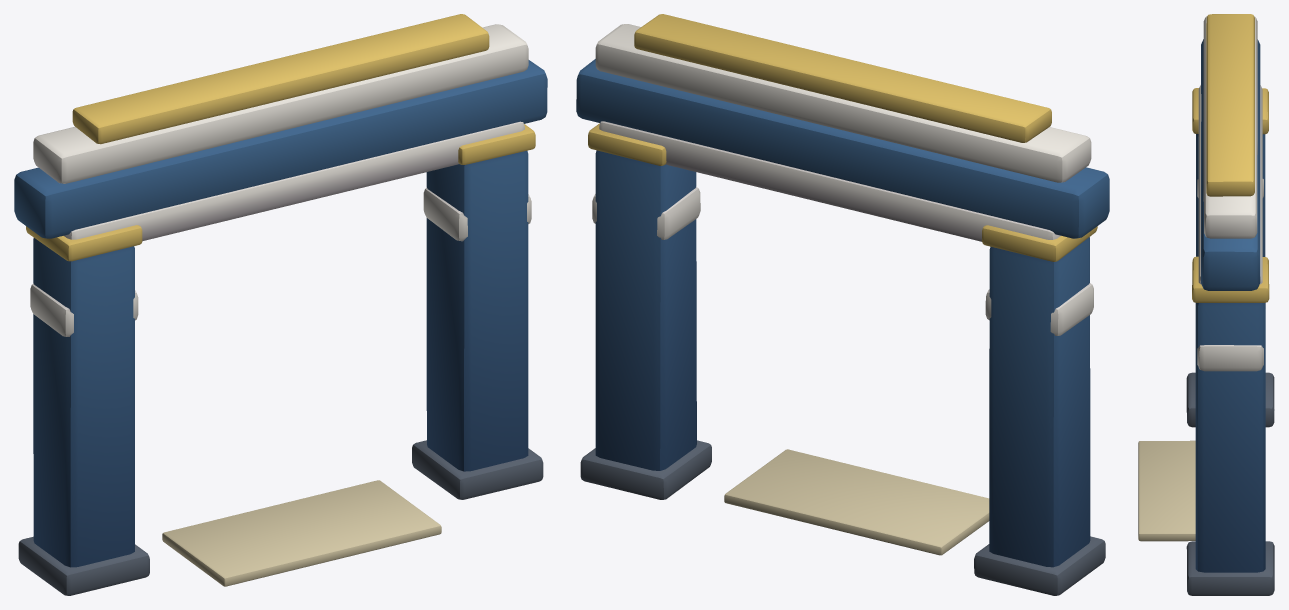
3 views of the same model, side by side, from view 1: azimuth 30°, elevation 25°; view 2: azimuth 150°, elevation 25°; view 3: azimuth 270°, elevation 25° (orthographic). The views are drawn at different scales.
Parts seen in each view (by area): view 1: gate_b9d9fff6; view 2: gate_b9d9fff6; view 3: gate_b9d9fff6.
Boxes of the visible parts, x1=… form: gate_b9d9fff6: x1=14, y1=14, x2=547, y2=595; gate_b9d9fff6: x1=576, y1=14, x2=1109, y2=595; gate_b9d9fff6: x1=1138, y1=14, x2=1274, y2=595.
Size of the model in its own units: 5.58 by 4.77 by 1.48.
